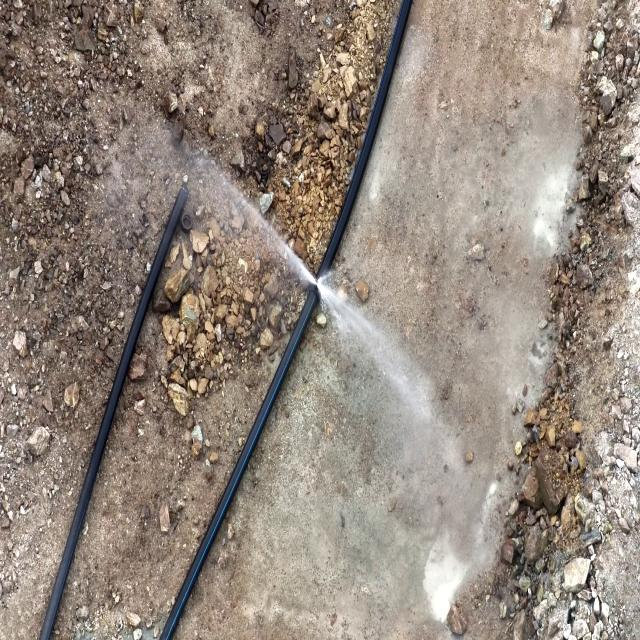leak: (188, 144, 379, 359)
